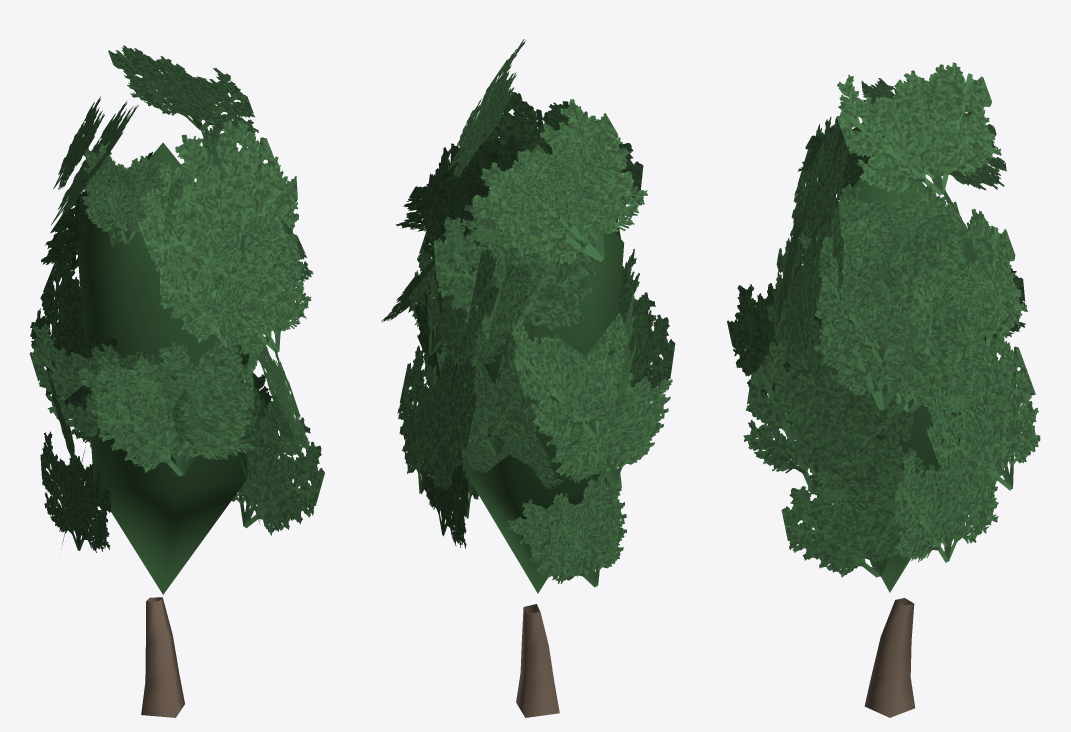
Rendered from THUJA_2.glb.
3 views of the same model, side by side, from view 1: azimuth 30°, elevation 25°; view 2: azimuth 150°, elevation 25°; view 3: azimuth 270°, elevation 25° (orthographic).
Visible parts, largest first — view 1: Arv_THUJA_lod2; view 2: Arv_THUJA_lod2; view 3: Arv_THUJA_lod2.
Boxes of the visible parts, x1,y1,x2,y2 form: Arv_THUJA_lod2: (29,45,324,717); Arv_THUJA_lod2: (381,39,675,717); Arv_THUJA_lod2: (727,62,1040,717).
Bounding box in the file's own units: 4.49 × 10.34 × 4.69.
3 materials, 1 textured.
